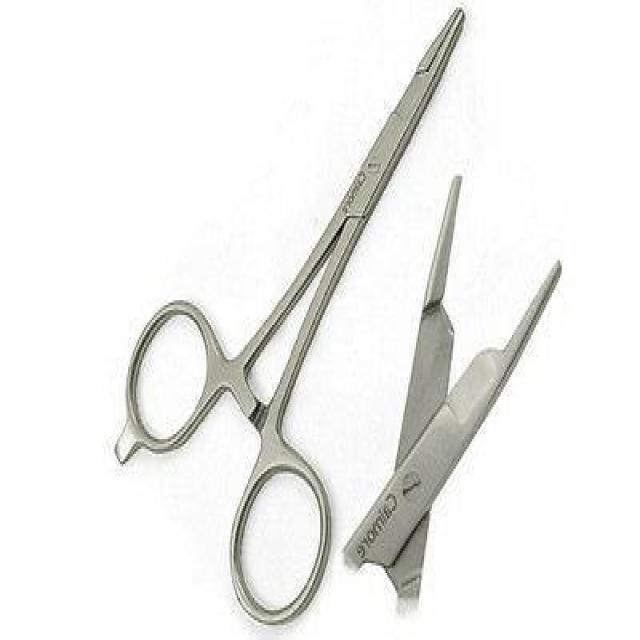Hemostat: (120, 2, 470, 628), (339, 168, 566, 608)
